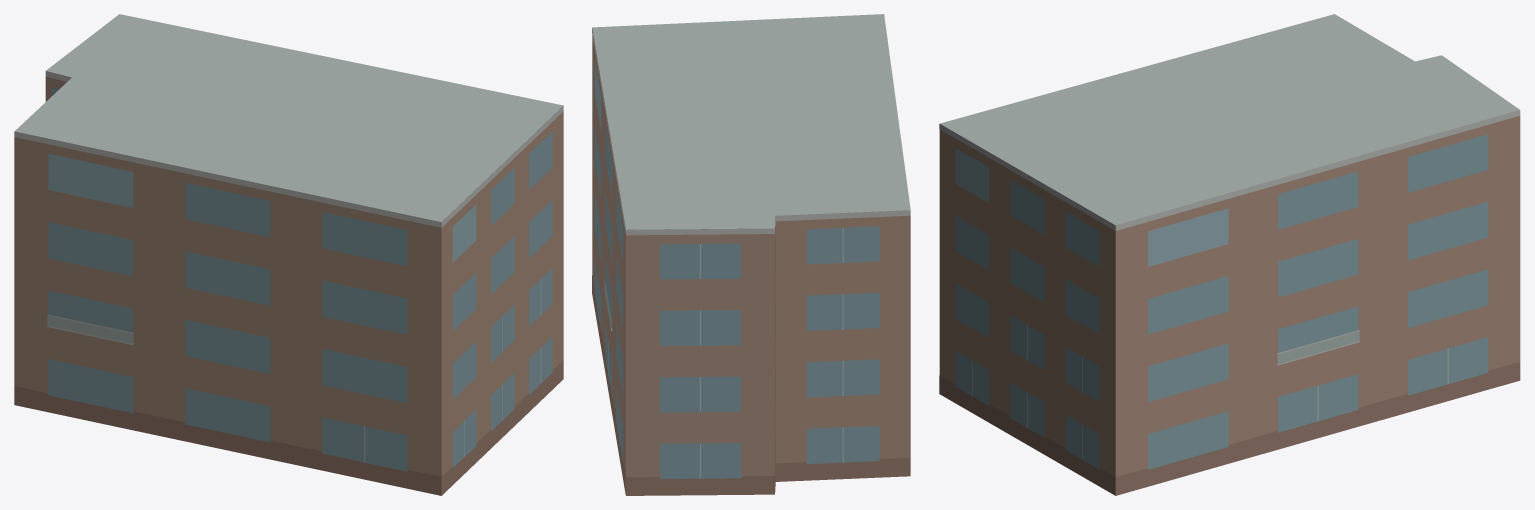
The model's file is survey-upis-32976455.glb.
3 renders of one model, left to right at view 1: azimuth 30°, elevation 25°; view 2: azimuth 150°, elevation 25°; view 3: azimuth 270°, elevation 25°, orthographic. The views are drawn at different scales.
Visible parts, largest first — view 1: survey-upis-32976455.tmp; view 2: survey-upis-32976455.tmp; view 3: survey-upis-32976455.tmp.
Boxes of the visible parts, left/top/right/bottom form: survey-upis-32976455.tmp: left=14, top=14, right=563, bottom=495; survey-upis-32976455.tmp: left=592, top=14, right=910, bottom=495; survey-upis-32976455.tmp: left=939, top=14, right=1520, bottom=495.
Bounding box in the file's own units: 19.62 × 11.7 × 22.78.
